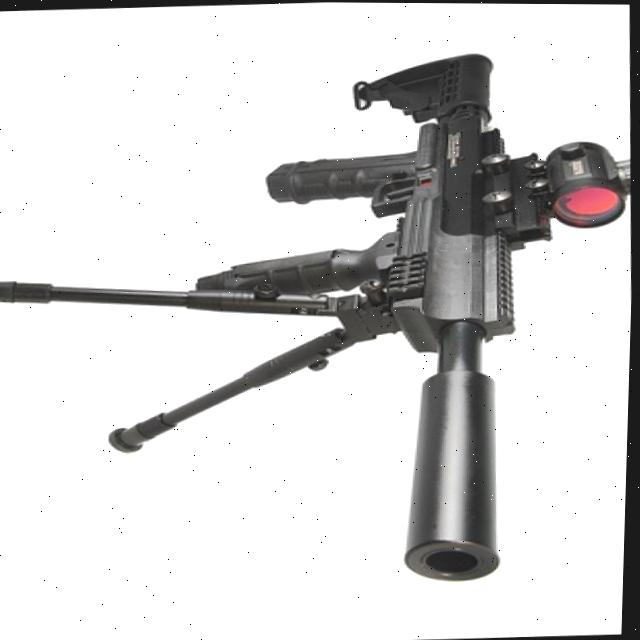firearm: (0, 42, 639, 602)
